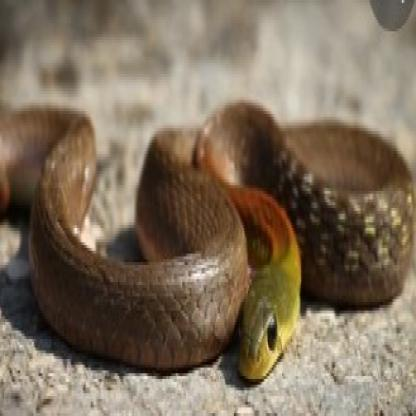snakes: (0, 94, 416, 396)
